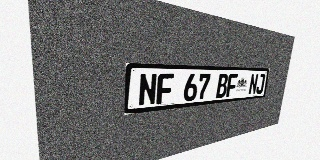6: (183, 74, 199, 102)
7: (196, 74, 211, 100)
B: (216, 74, 229, 98)
F: (156, 73, 174, 105), (226, 74, 238, 97)
J: (255, 74, 265, 94)
N: (138, 73, 157, 106), (248, 74, 259, 95)
